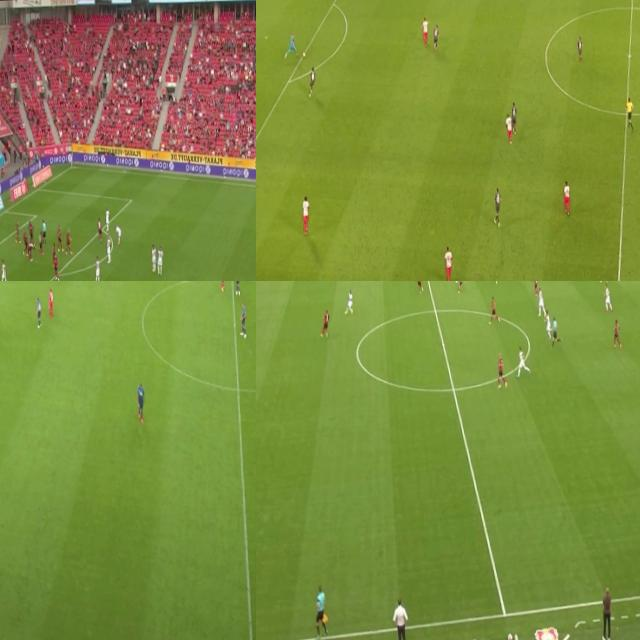ball: (302, 50, 306, 58), (454, 281, 458, 283)
player: (282, 30, 299, 64), (442, 243, 455, 281), (419, 16, 432, 50), (302, 195, 312, 239), (237, 298, 248, 338), (495, 349, 506, 388), (318, 308, 331, 339), (492, 188, 502, 228), (561, 180, 572, 216), (136, 381, 145, 419), (612, 312, 621, 350), (516, 346, 528, 374), (504, 112, 513, 148), (488, 296, 498, 326), (508, 102, 518, 131), (34, 298, 44, 326), (308, 67, 316, 101), (344, 290, 354, 316), (575, 34, 583, 66), (432, 24, 440, 54), (604, 283, 612, 313), (47, 286, 55, 314), (64, 230, 74, 252), (25, 240, 36, 260), (112, 224, 121, 248), (22, 230, 30, 256), (544, 308, 550, 342), (104, 236, 111, 264), (537, 288, 544, 316), (156, 247, 163, 273), (150, 242, 156, 272), (0, 258, 7, 281), (94, 255, 100, 281), (16, 218, 22, 244), (413, 281, 426, 293), (26, 220, 33, 242), (56, 224, 61, 254), (38, 228, 44, 252), (104, 206, 109, 234), (50, 242, 56, 264), (232, 281, 242, 294), (532, 281, 541, 295), (457, 281, 465, 295), (98, 214, 102, 241), (54, 252, 58, 278), (219, 281, 226, 292)
